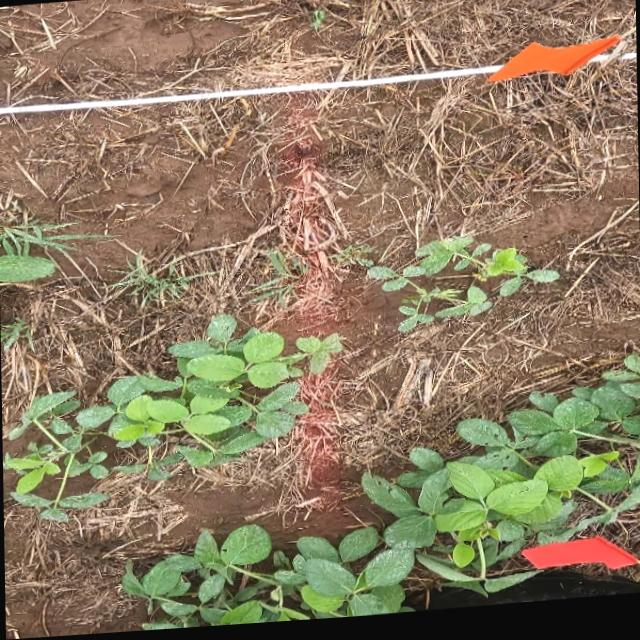grassy_weed: (112, 251, 195, 308), (0, 201, 79, 254), (251, 253, 306, 309), (0, 318, 32, 349)
soy_plant: (121, 402, 640, 632), (5, 316, 341, 520), (367, 241, 559, 336), (590, 363, 640, 445), (0, 254, 55, 280)
